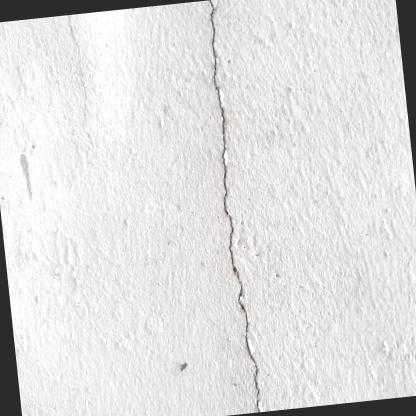crack: (207, 0, 261, 412)
